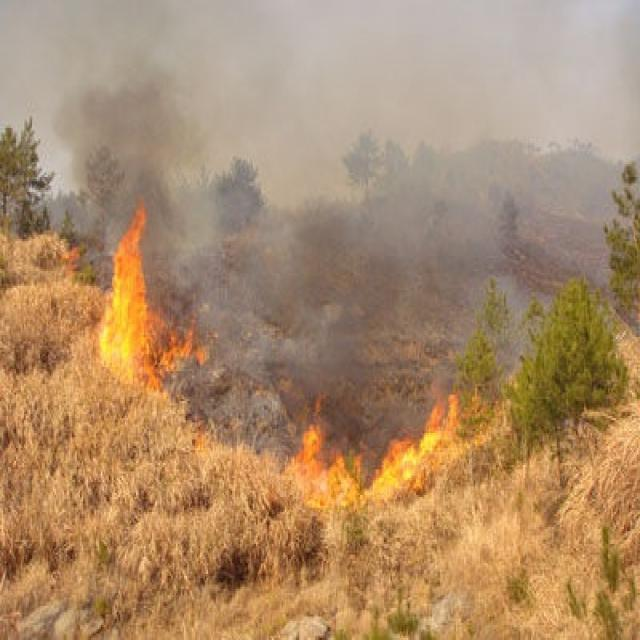Fire: (276, 390, 492, 510), (91, 194, 208, 399)
Smoke: (1, 2, 640, 223), (164, 223, 592, 333), (210, 338, 516, 403)
